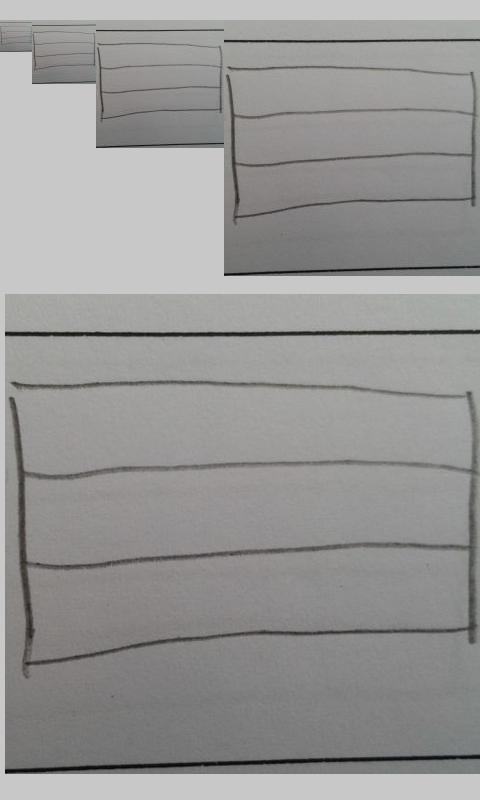list_view: (11, 379, 480, 675), (227, 64, 478, 221), (96, 41, 223, 122), (33, 31, 95, 70), (1, 25, 32, 46)
